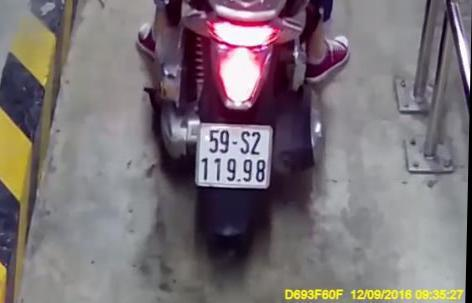License_Plate: (193, 120, 278, 194)
